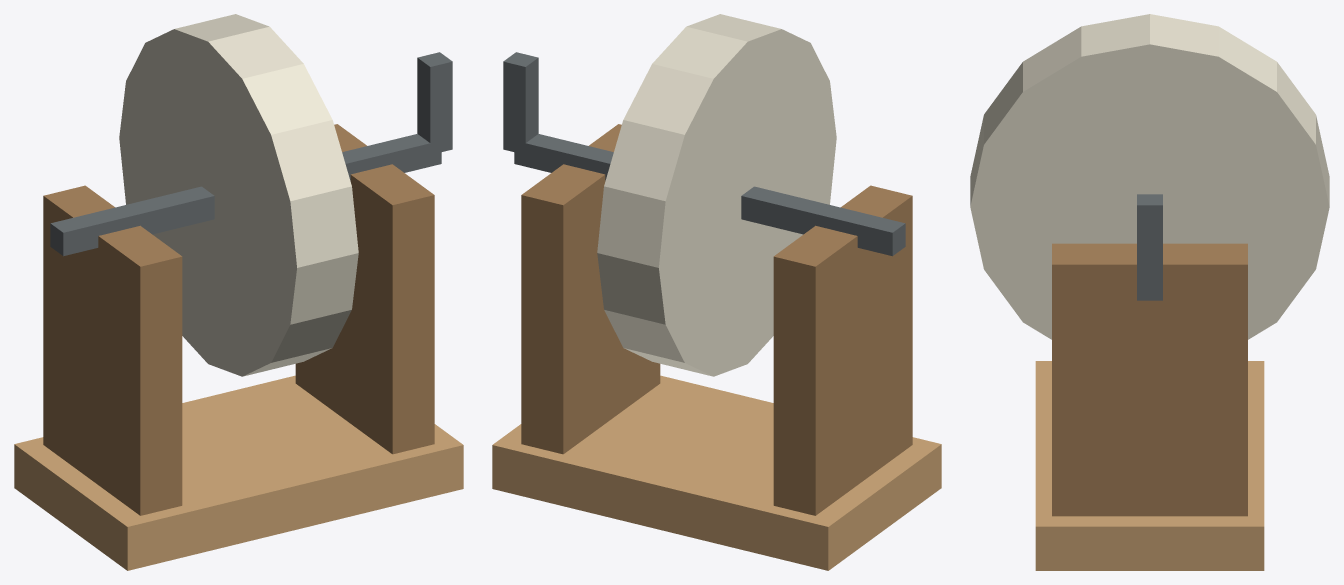
The model's file is grindstone.glb.
3 views of the same model, side by side, from view 1: azimuth 30°, elevation 25°; view 2: azimuth 150°, elevation 25°; view 3: azimuth 270°, elevation 25° (orthographic).
Visible parts, largest first — view 1: grindstone; view 2: grindstone; view 3: grindstone.
Part boxes in pixels (x1,y1,x2,y2): grindstone: (14,14,463,570); grindstone: (492,14,941,570); grindstone: (970,14,1329,570).
Size of the model in its own units: 1.39 by 1.55 by 1.1.
